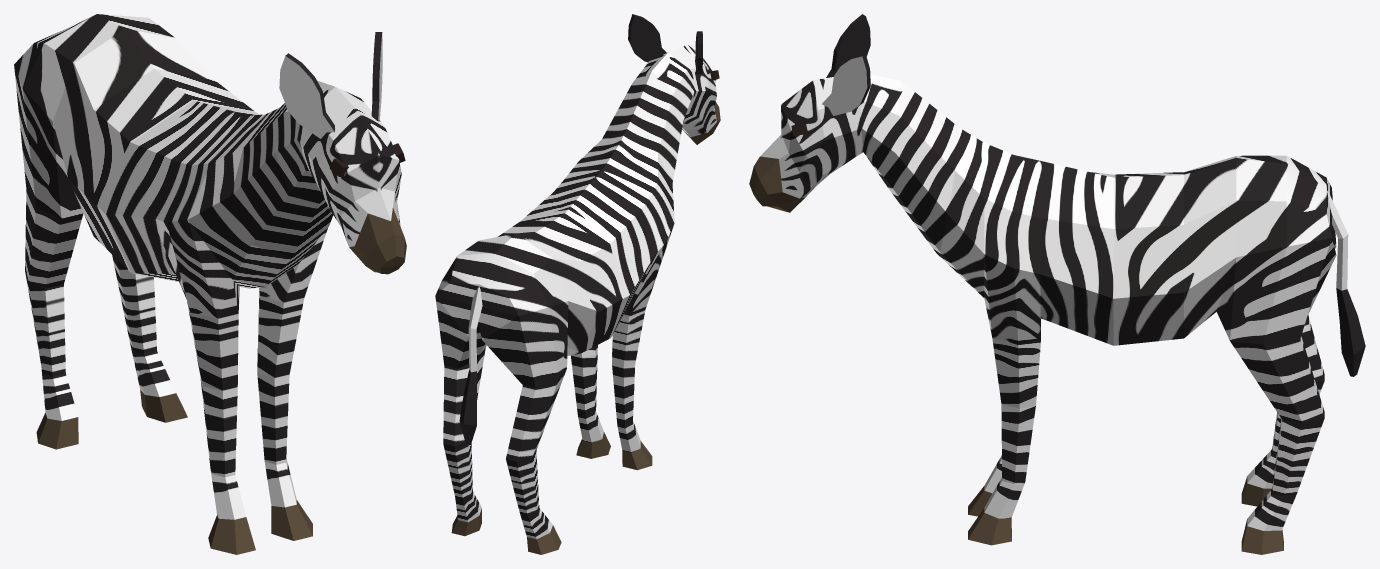
File: Mesh_Zebra.gltf
3 views of the same model, side by side, from view 1: azimuth 30°, elevation 25°; view 2: azimuth 150°, elevation 25°; view 3: azimuth 270°, elevation 25° (orthographic). The views are drawn at different scales.
Parts seen in each view (by area): view 1: node-0; view 2: node-0; view 3: node-0.
Part boxes in pixels (x1,y1,x2,y2): node-0: [14, 14, 406, 554]; node-0: [435, 14, 720, 554]; node-0: [749, 14, 1365, 554].
Size of the model in its own units: 40.07 by 119 by 136.
1 material, 1 textured.
